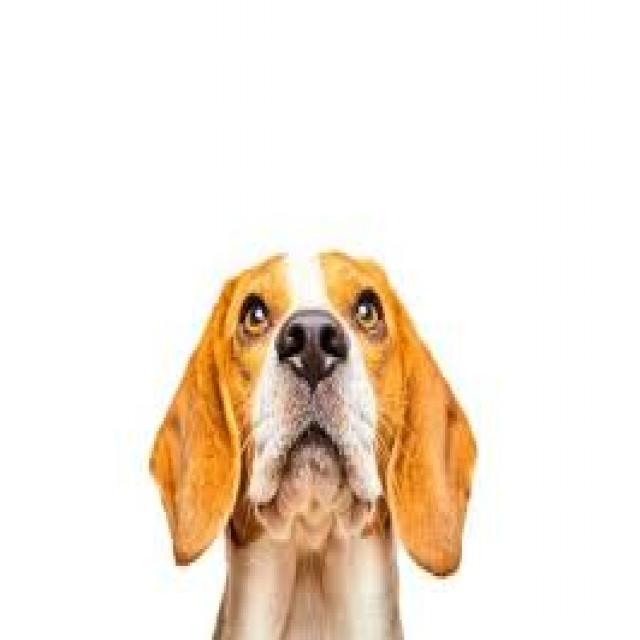Dog: (142, 236, 476, 640)
